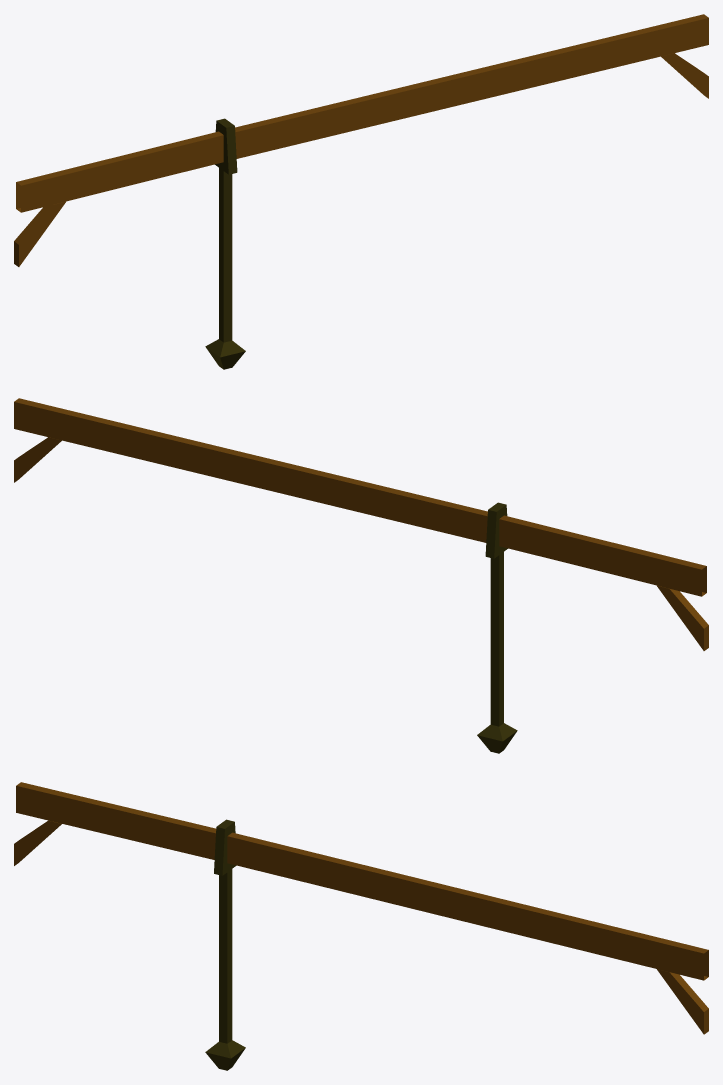
3 views of the same model, one above another, from view 1: azimuth 30°, elevation 25°; view 2: azimuth 150°, elevation 25°; view 3: azimuth 330°, elevation 25° (orthographic).
Size of the model in its own units: 5 by 1.69 by 0.1875.
